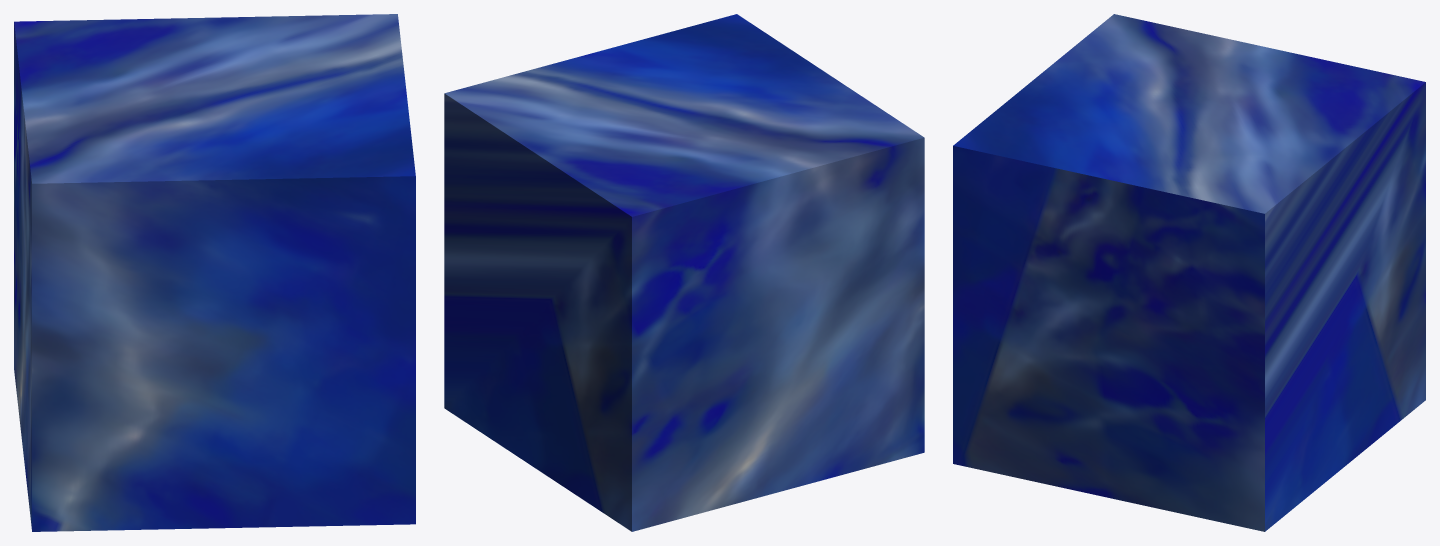
Rendered from BlueBlocks_8.gltf.
3 views of the same model, side by side, from view 1: azimuth 30°, elevation 25°; view 2: azimuth 150°, elevation 25°; view 3: azimuth 270°, elevation 25° (orthographic). The views are drawn at different scales.
Parts seen in each view (by area): view 1: BlueBlocks_8; view 2: BlueBlocks_8; view 3: BlueBlocks_8.
Boxes of the visible parts, box(x1,y1,x2,y2) form: BlueBlocks_8: box(14, 14, 415, 531); BlueBlocks_8: box(444, 14, 924, 531); BlueBlocks_8: box(953, 14, 1425, 531).
Bounding box in the file's own units: 12.38 × 9.19 × 12.38.
1 material, 1 textured.
